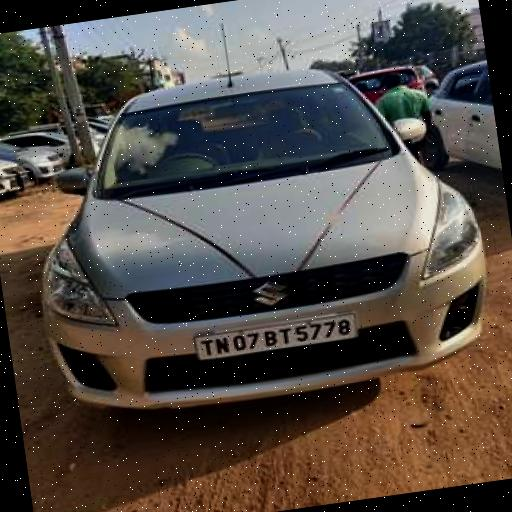license_plate`: (193, 314, 355, 360)
